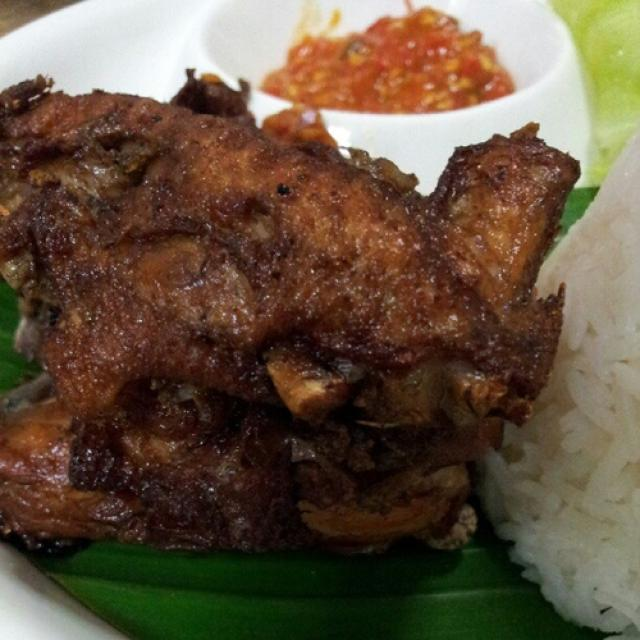鸡肉料理 含炸鸡: (11, 20, 603, 608)
